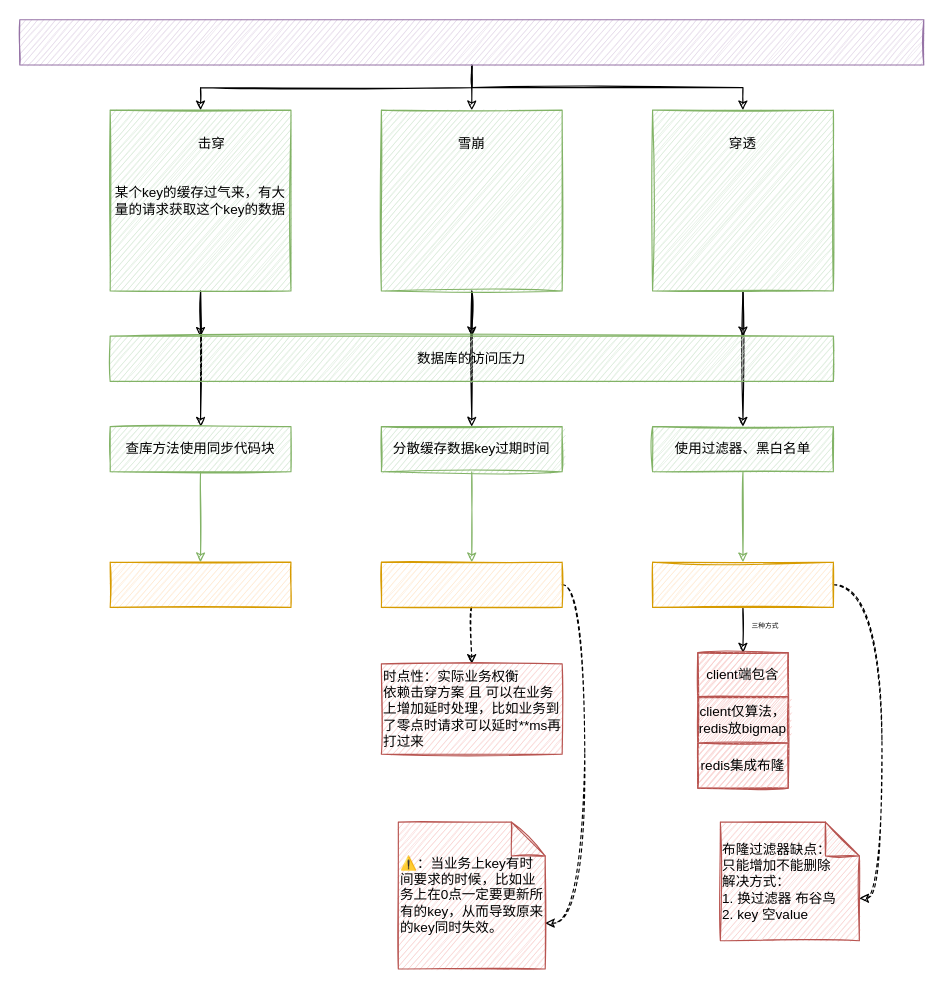
Image size: 944x989. Some labels were removed from this diagram. The shapes that lost their labels are listed below. From the top down, each one's box as (x1, y1, x2, y2) in pixels, then its label:
(19, 19, 924, 65): 击穿 穿透 雪崩
(380, 109, 562, 291): 大批量的key同时失效
(651, 109, 833, 291): 暴力访问缓存和数据库根本没有的数据
(109, 561, 291, 607): 锁、分布式锁
(380, 561, 562, 607): 随机过期时间：时点性无关
(651, 561, 833, 607): 布隆过滤器
